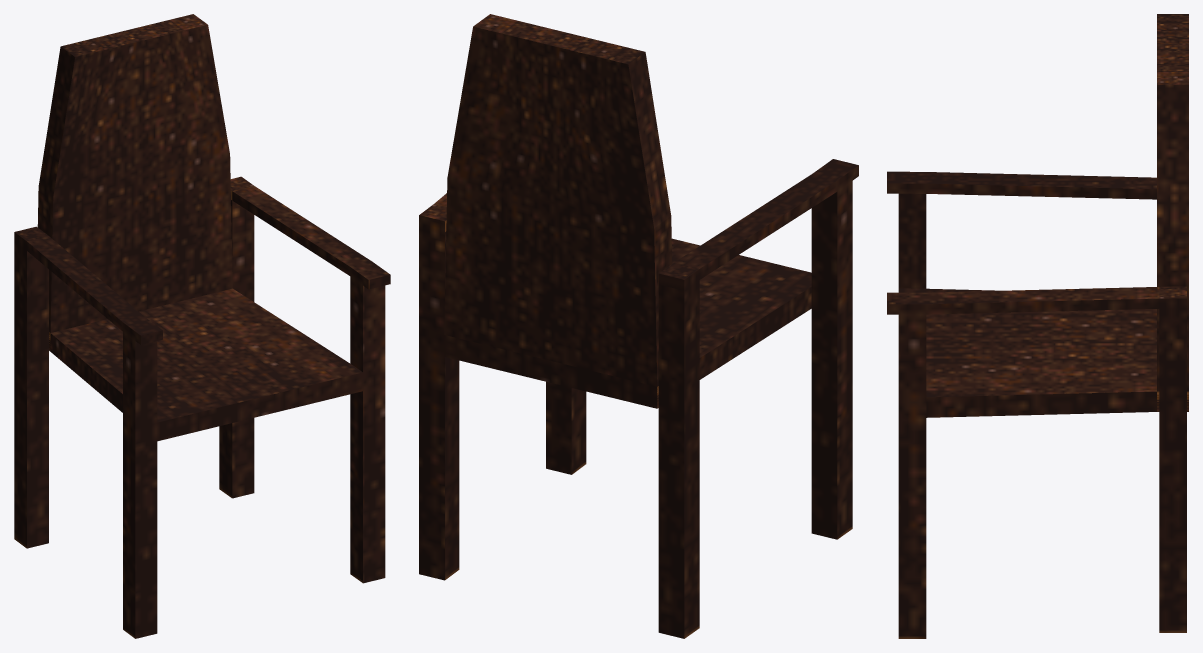
Rendered from SM_Dungeon_Chair.fbx.
3 renders of one model, left to right at view 1: azimuth 30°, elevation 25°; view 2: azimuth 150°, elevation 25°; view 3: azimuth 270°, elevation 25°, orthographic. The views are drawn at different scales.
Visible parts, largest first — view 1: SM_Dungeon_Chair_Dining.001; view 2: SM_Dungeon_Chair_Dining.001; view 3: SM_Dungeon_Chair_Dining.001.
Boxes of the visible parts, bbox=[...] form: SM_Dungeon_Chair_Dining.001: bbox=[14, 14, 390, 638]; SM_Dungeon_Chair_Dining.001: bbox=[419, 14, 858, 638]; SM_Dungeon_Chair_Dining.001: bbox=[887, 14, 1188, 638].
Size of the model in its own units: 65.72 by 121 by 63.21.
